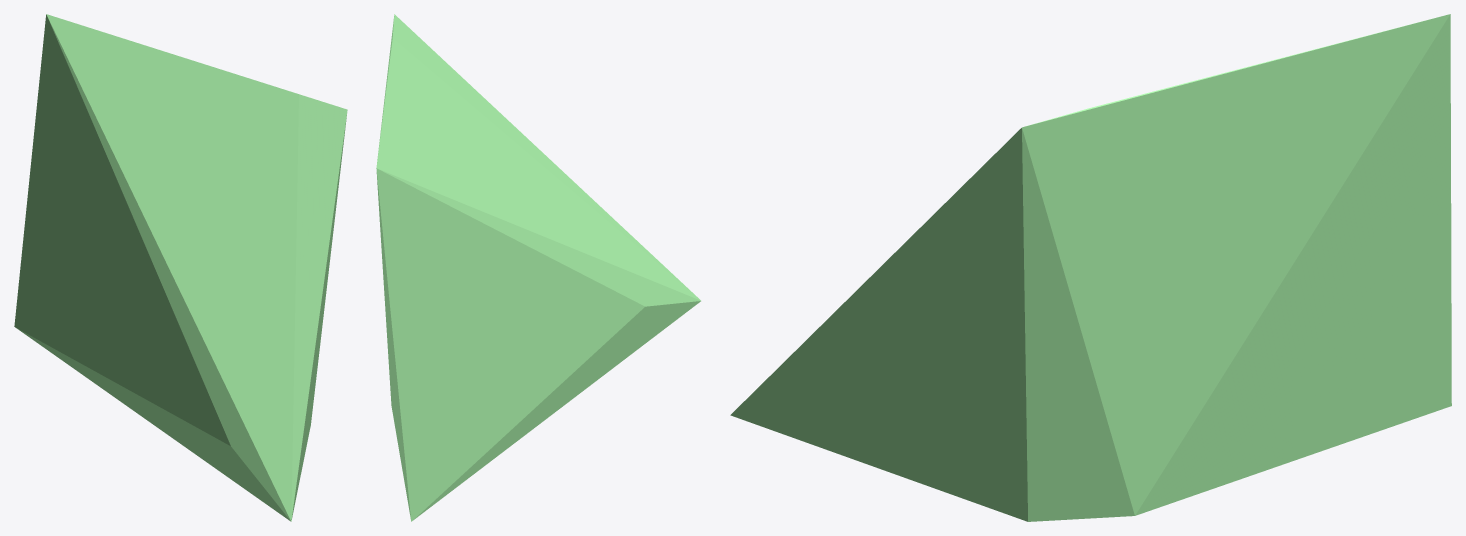
The model's file is UMIRobot_UMIRobot_link_4_convex_coll_24.dae.
3 views of the same model, side by side, from view 1: azimuth 30°, elevation 25°; view 2: azimuth 150°, elevation 25°; view 3: azimuth 270°, elevation 25° (orthographic). The views are drawn at different scales.
Visible parts, largest first — view 1: node; view 2: node; view 3: node.
Part boxes in pixels (bbox=[...]): node: bbox=[14, 14, 347, 521]; node: bbox=[376, 14, 700, 521]; node: bbox=[730, 14, 1451, 521].
Size of the model in its own units: 0.0146 by 0.0259 by 0.0389.
